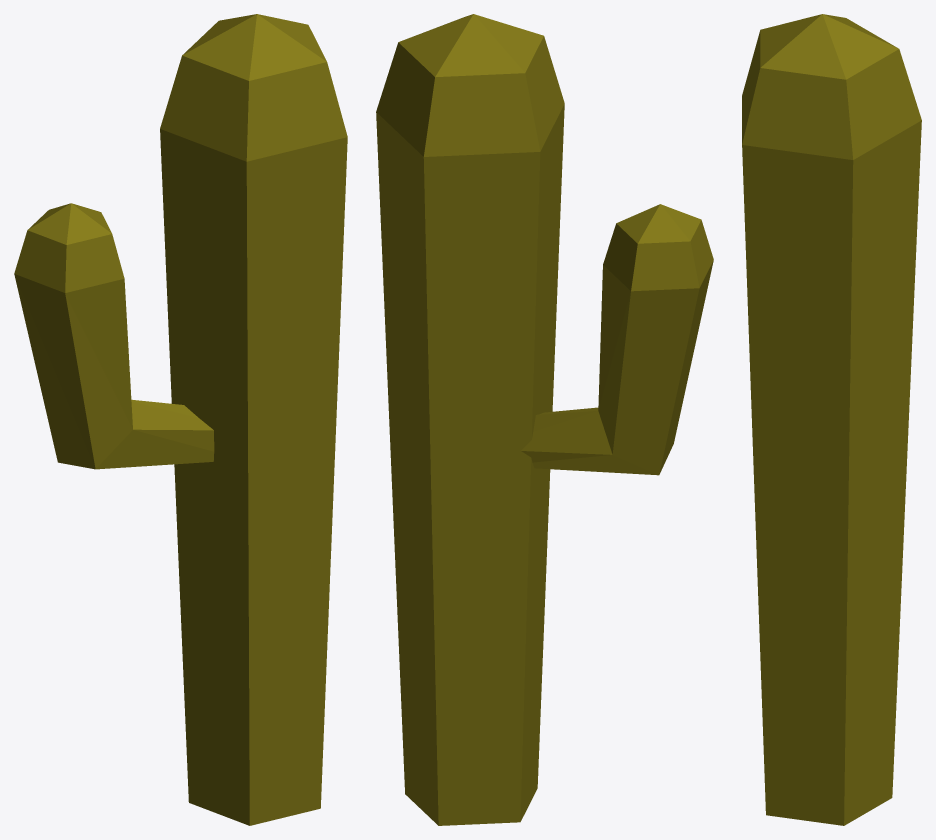
Rendered from Cactus2.fbx.
3 renders of one model, left to right at view 1: azimuth 30°, elevation 25°; view 2: azimuth 150°, elevation 25°; view 3: azimuth 270°, elevation 25°, orthographic.
Parts seen in each view (by area): view 1: Cactus2; view 2: Cactus2; view 3: Cactus2.
Boxes of the visible parts, left/top/right/bottom form: Cactus2: left=14, top=14, right=347, bottom=825; Cactus2: left=376, top=14, right=713, bottom=825; Cactus2: left=742, top=14, right=921, bottom=825.
Size of the model in its own units: 43.98 by 104 by 21.67.
